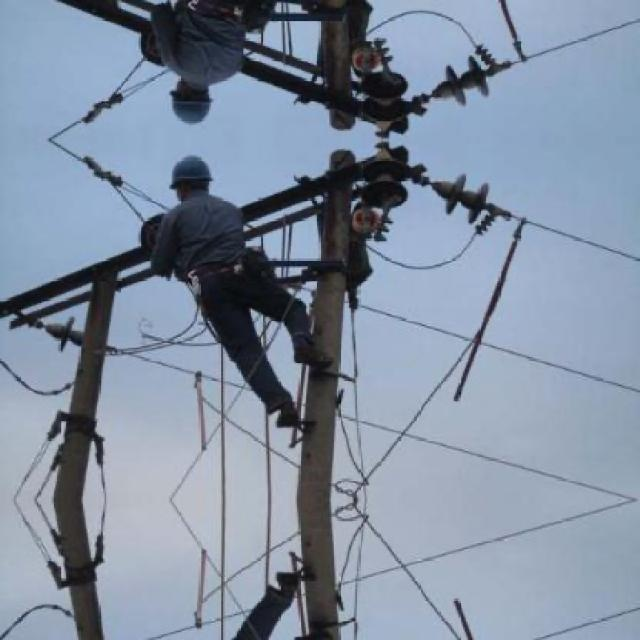Arnes_seguridad: (182, 242, 277, 319)
